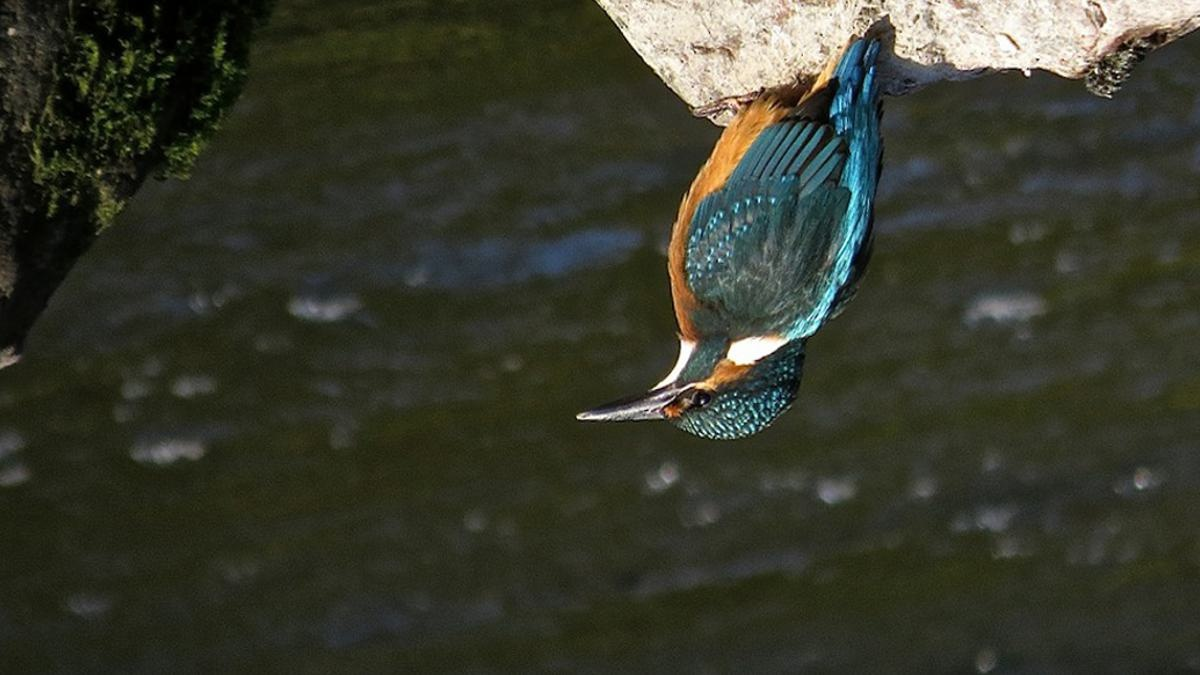kingfisher: (570, 40, 898, 499)
